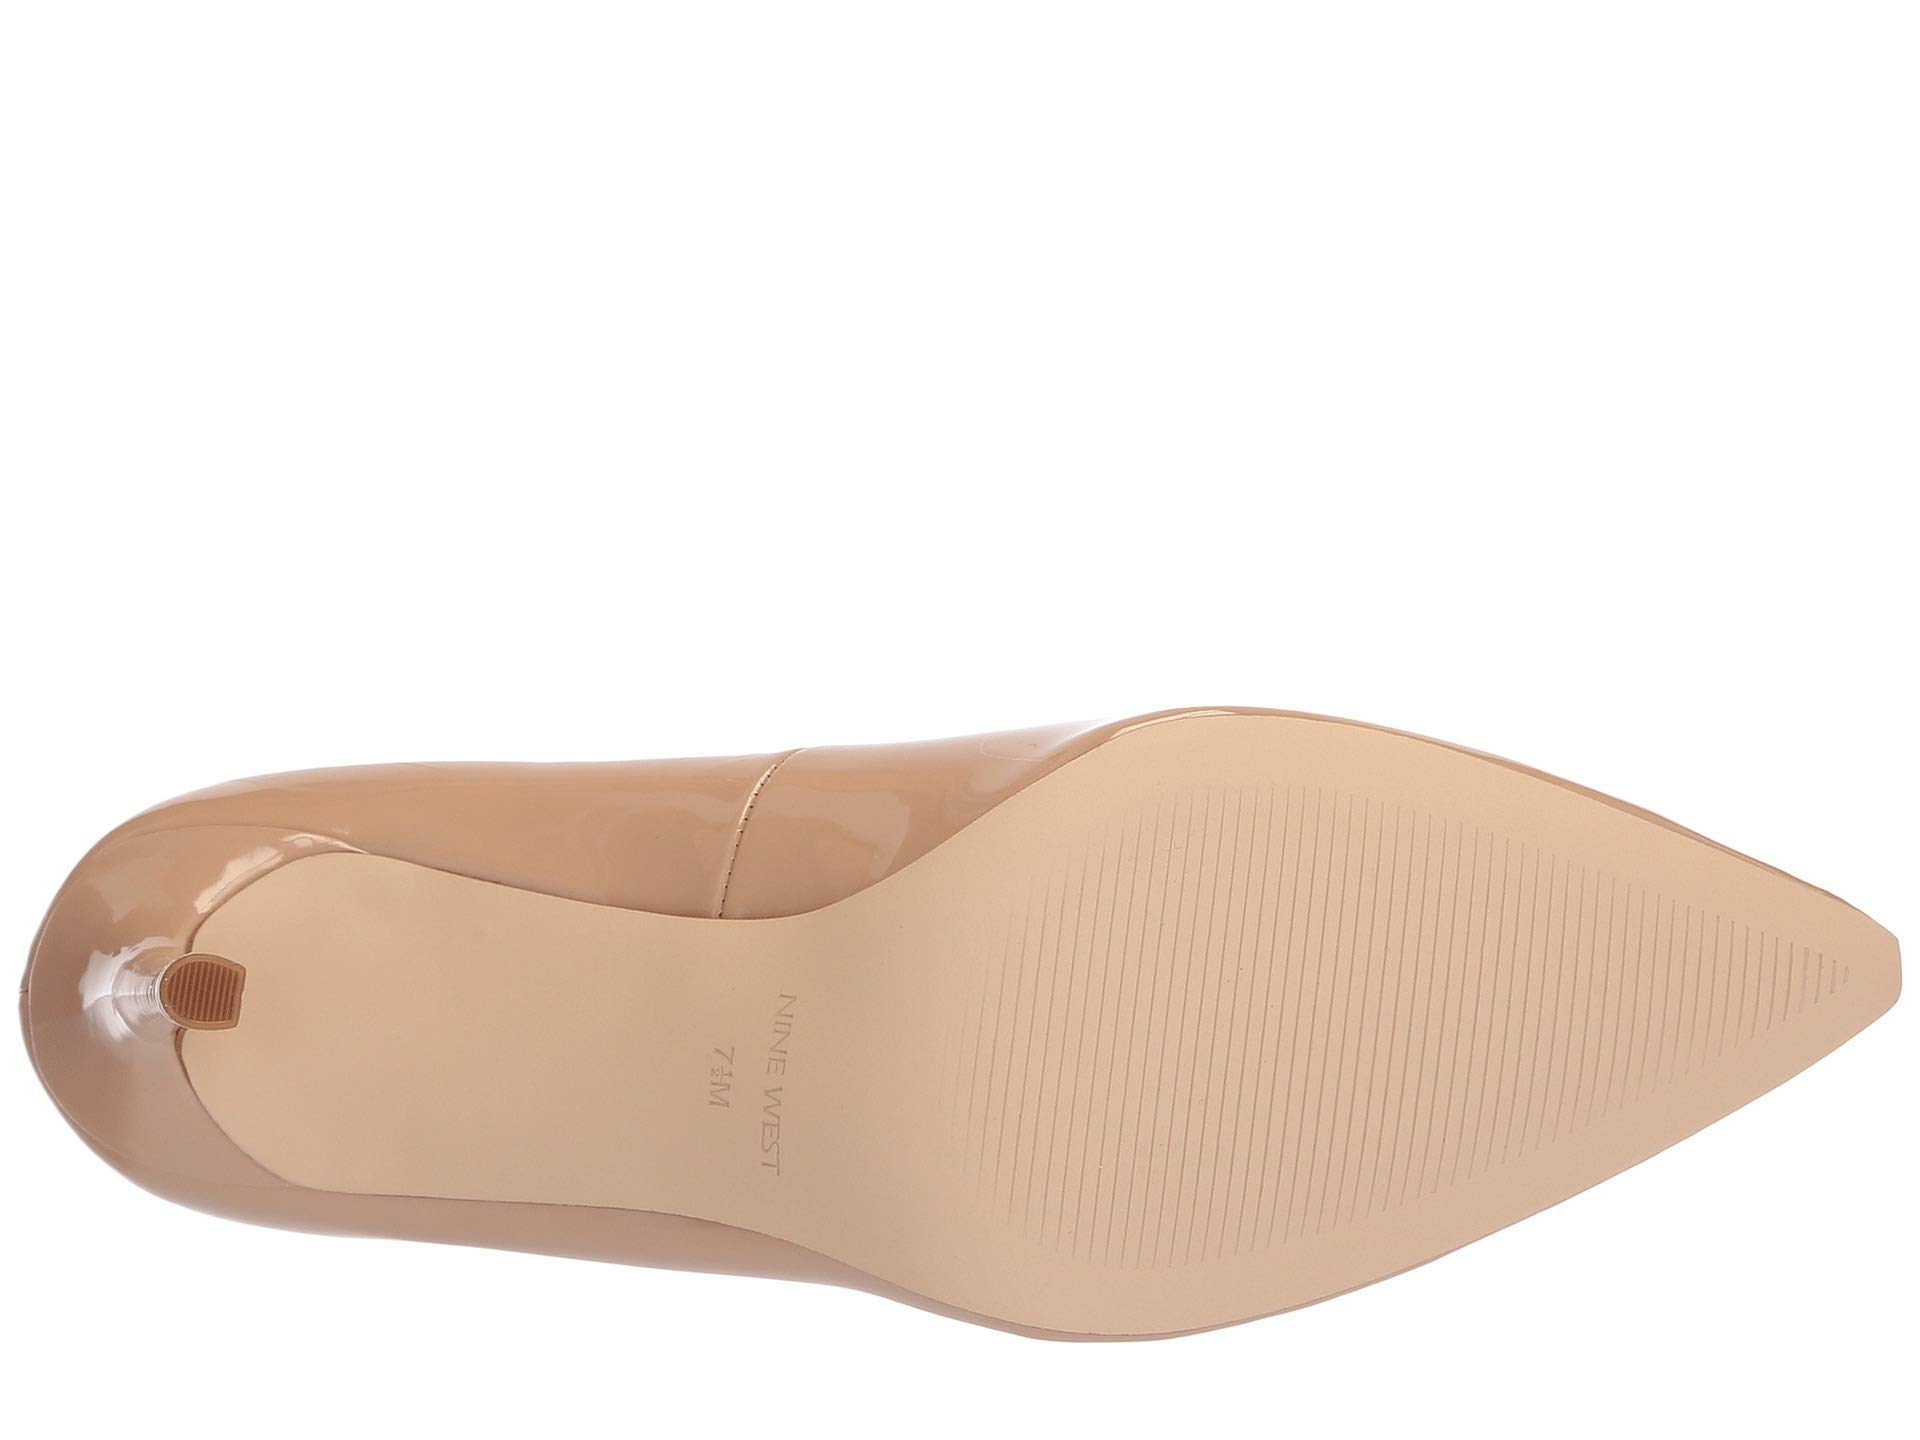exclude: (11, 605, 1214, 1360)
line: (995, 799, 1415, 1262), (1444, 879, 1649, 1086), (1674, 923, 1795, 1039), (186, 968, 230, 1027), (1807, 959, 1847, 998)
